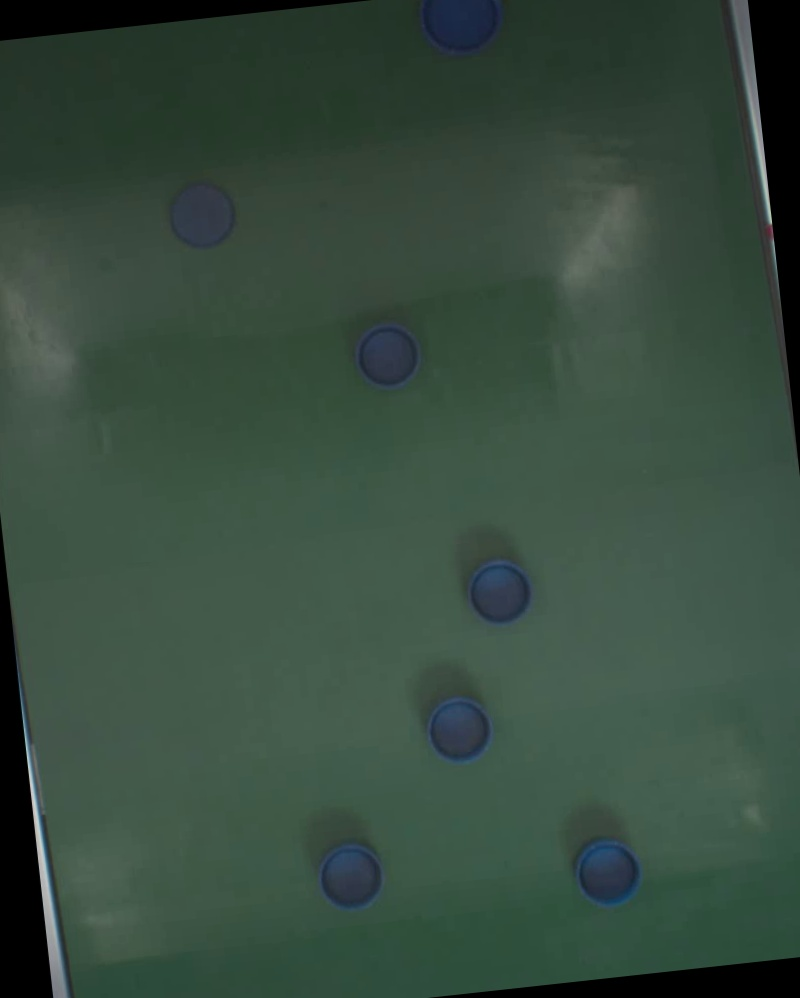Dark Blue: (573, 835, 645, 912), (316, 839, 387, 915), (465, 554, 536, 628), (352, 318, 423, 392), (168, 179, 239, 252), (422, 695, 493, 763), (426, 0, 502, 56)
